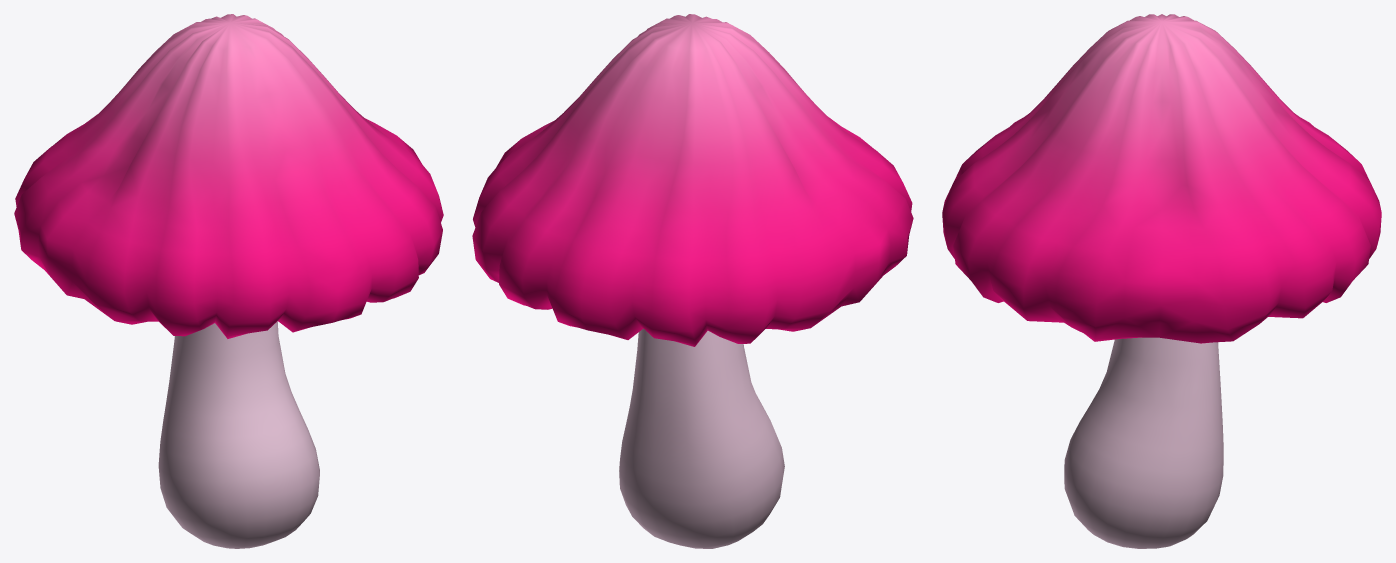
Rendered from Mushroom_0001_0019.fbx.
The picture shows the model from 3 angles, left to right: view 1: azimuth 30°, elevation 25°; view 2: azimuth 150°, elevation 25°; view 3: azimuth 270°, elevation 25°; orthographic projection. The views are drawn at different scales.
Visible parts, largest first — view 1: Mushroom_0001_0019; view 2: Mushroom_0001_0019; view 3: Mushroom_0001_0019.
Part boxes in pixels (<box>): Mushroom_0001_0019: <box>14,14,443,548</box>; Mushroom_0001_0019: <box>472,14,913,548</box>; Mushroom_0001_0019: <box>942,14,1381,548</box>.
Size of the model in its own units: 0.1167 by 0.1553 by 0.1197.
Materials: 1 (1 with a texture image).
